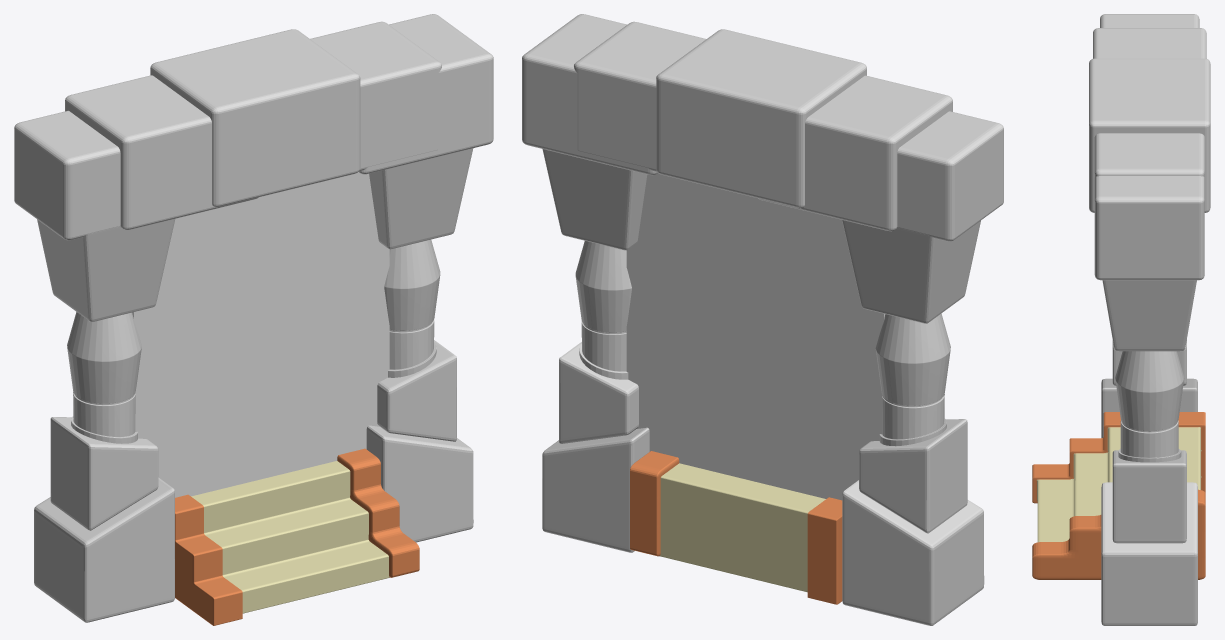
Rendered from Entrance.fbx.
3 renders of one model, left to right at view 1: azimuth 30°, elevation 25°; view 2: azimuth 150°, elevation 25°; view 3: azimuth 270°, elevation 25°, orthographic. The views are drawn at different scales.
Visible parts, largest first — view 1: Cube.004, Cube.008, Cube.006, Cube.001, Cube, Cube.002; view 2: Cube.004, Cube.008, Cube.006, Cube.001, Cube, Cube.002; view 3: Cube.004, Cube.001, Cube, Cube.002, Cube.006.
Part boxes in pixels (x1=…): Cube.004: x1=14, y1=14, x2=493, y2=240; Cube.008: x1=132, y1=172, x2=389, y2=497; Cube.006: x1=34, y1=219, x2=175, y2=622; Cube.001: x1=366, y1=148, x2=473, y2=542; Cube: x1=175, y1=461, x2=389, y2=625; Cube.002: x1=337, y1=448, x2=419, y2=577; Cube.004: x1=522, y1=14, x2=1003, y2=241; Cube.008: x1=626, y1=173, x2=885, y2=500; Cube.006: x1=842, y1=220, x2=984, y2=625; Cube.001: x1=542, y1=149, x2=649, y2=552; Cube: x1=660, y1=463, x2=842, y2=604; Cube.002: x1=630, y1=451, x2=679, y2=556; Cube.004: x1=1089, y1=14, x2=1210, y2=280; Cube.001: x1=1101, y1=280, x2=1197, y2=625; Cube: x1=1032, y1=412, x2=1205, y2=542; Cube.002: x1=1032, y1=489, x2=1205, y2=579; Cube.006: x1=1101, y1=339, x2=1197, y2=437.
Bounding box in the file's own units: 525 × 574 × 206.
